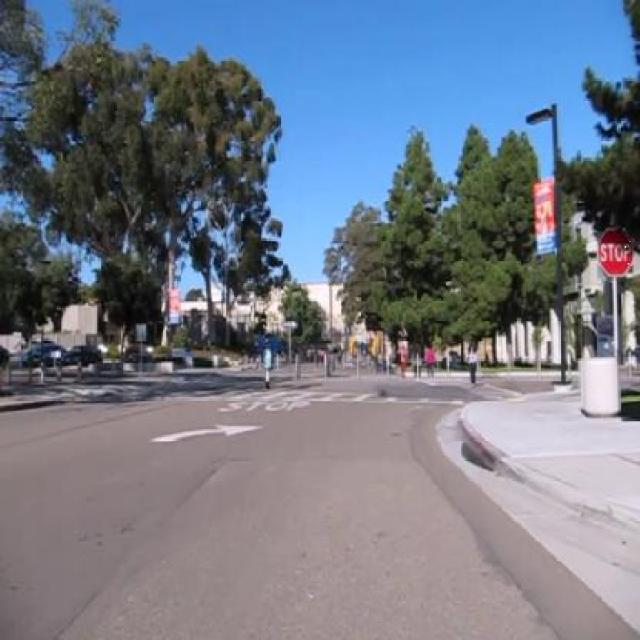stop: (595, 225, 635, 276)
